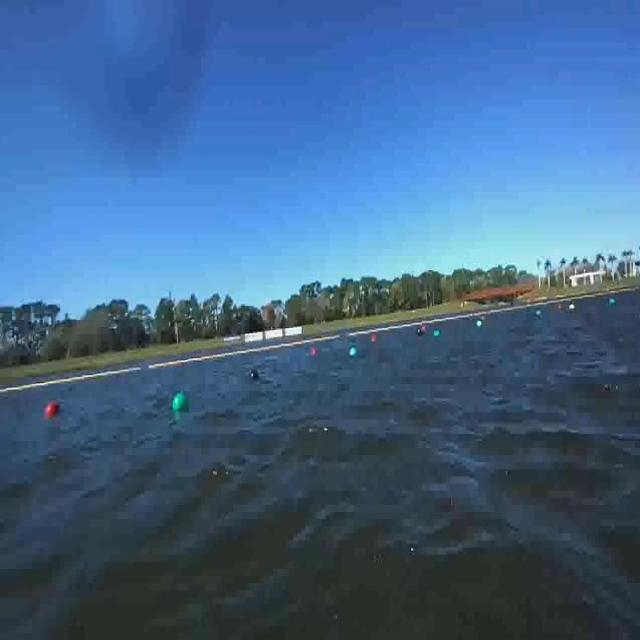black-buoy: (249, 368, 260, 384)
green-buoy: (176, 394, 192, 414), (433, 329, 440, 337)
red-buoy: (47, 403, 62, 420)
